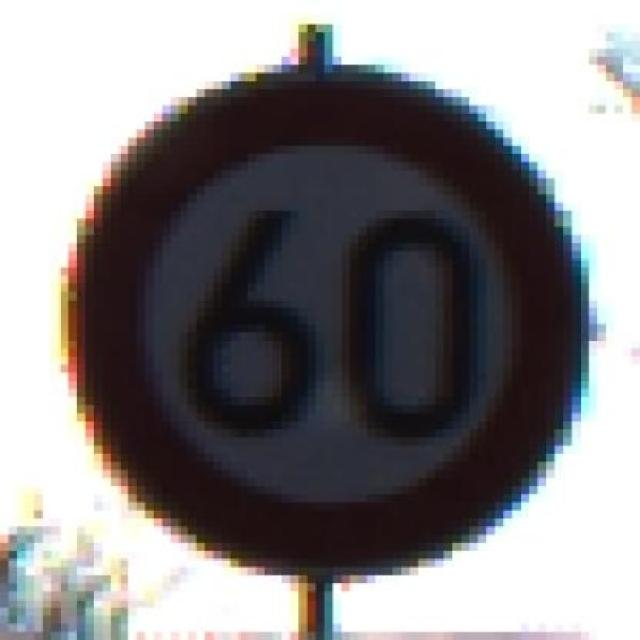forb_speed_over_60: (71, 68, 572, 572)
